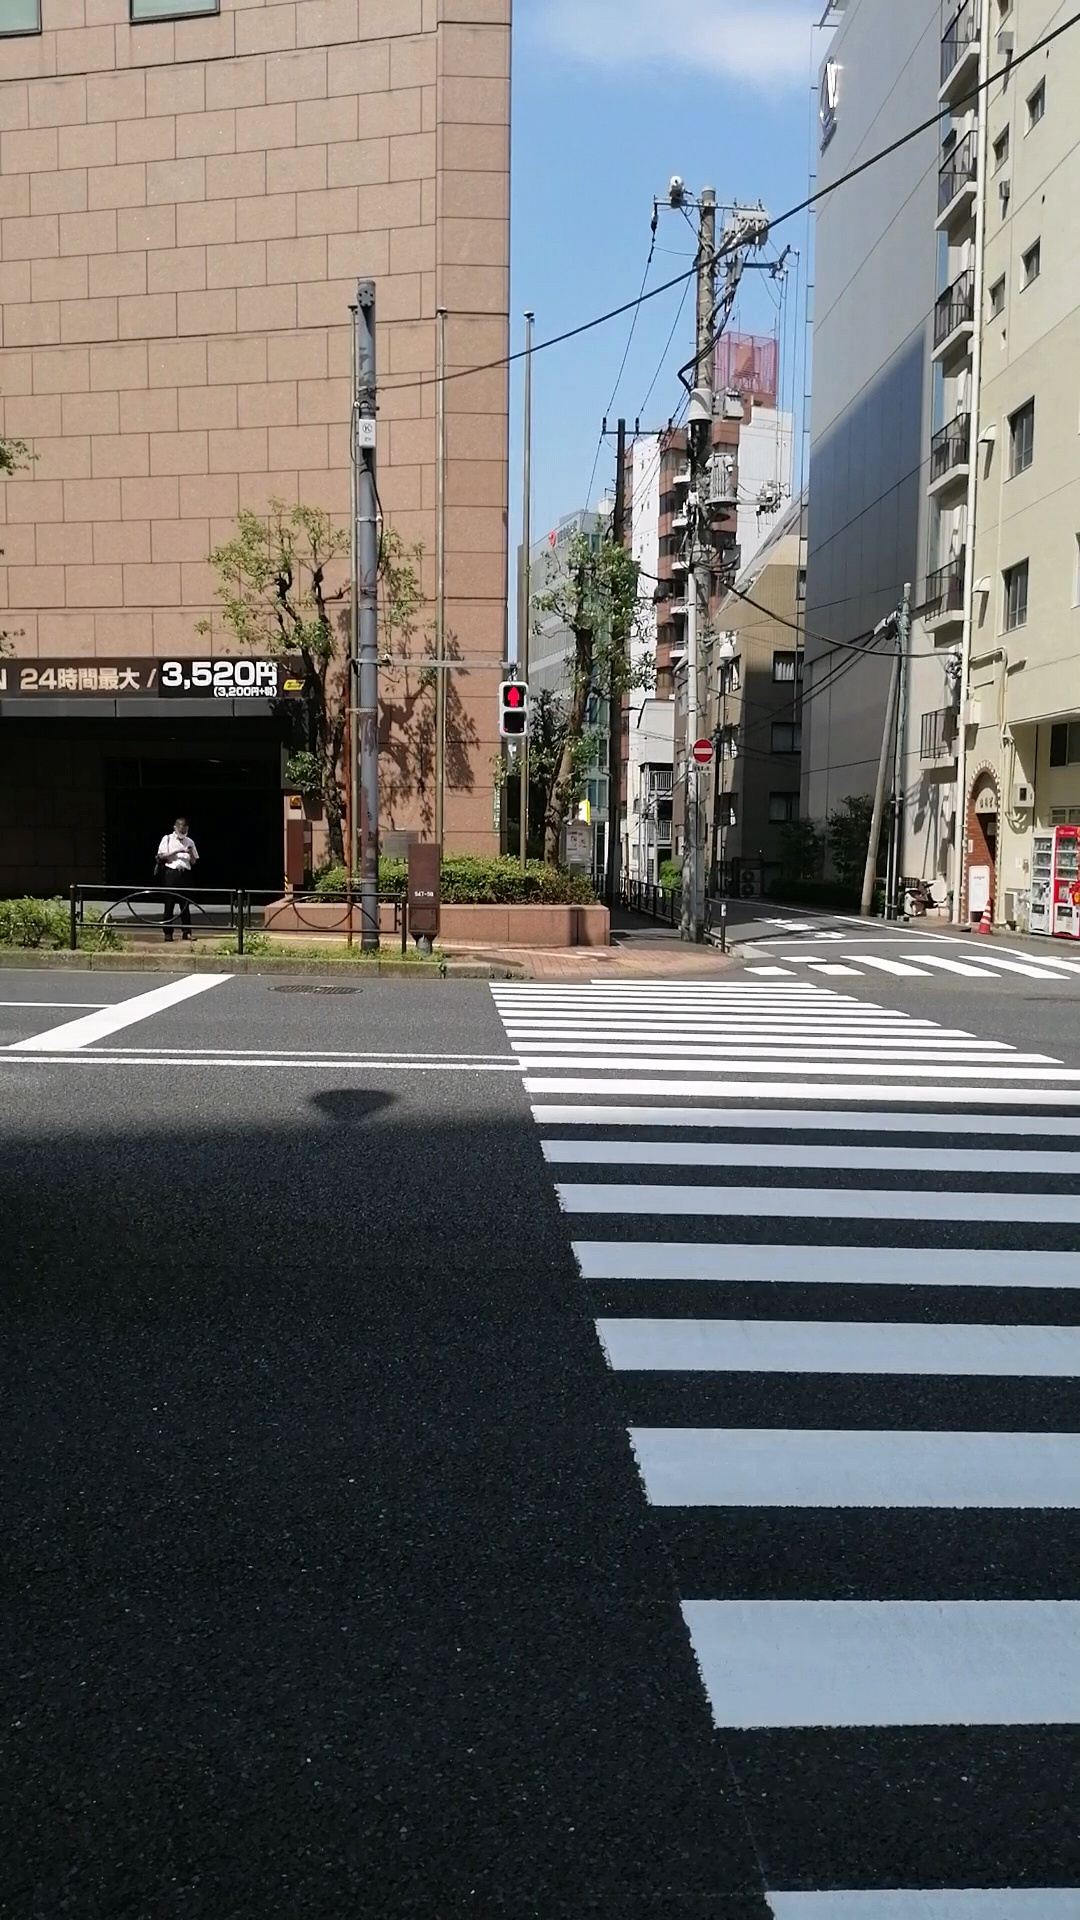red: (497, 680, 529, 737)
